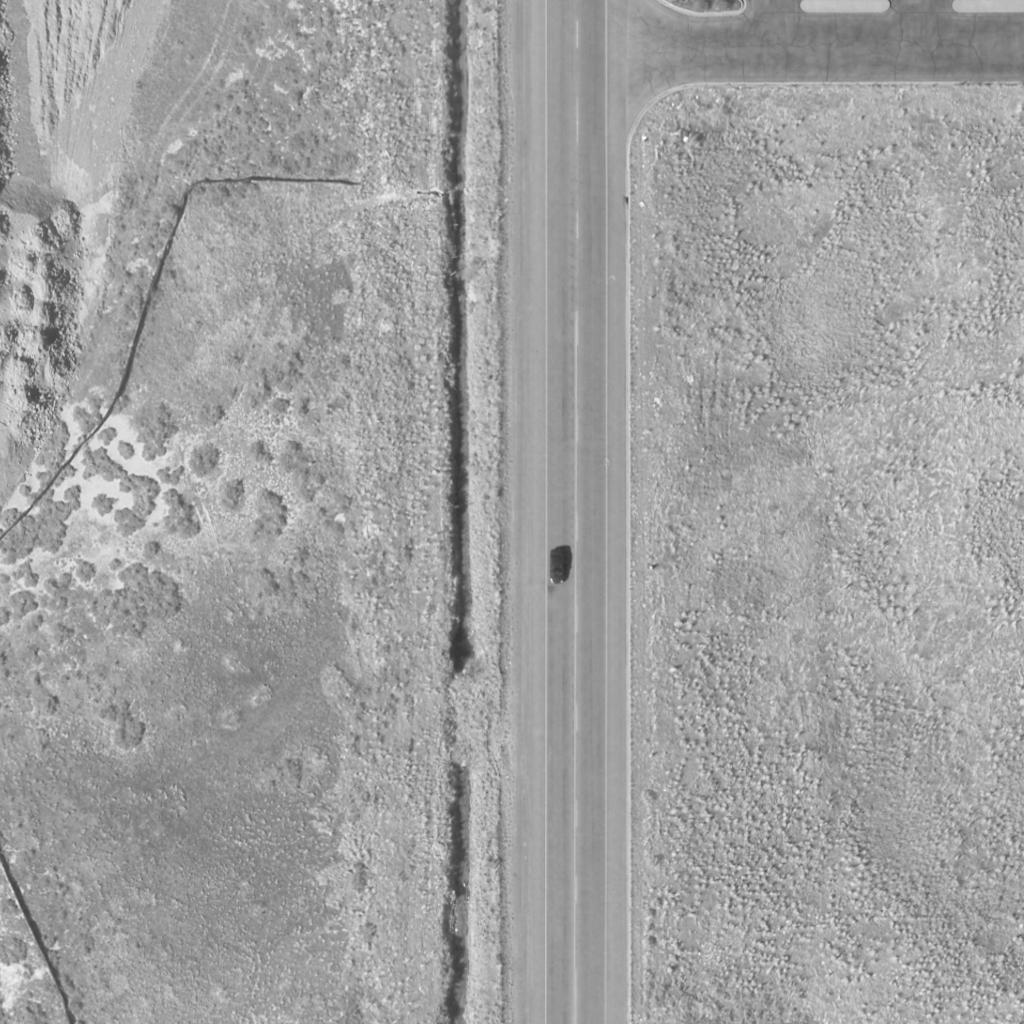vehicle: (548, 547, 568, 585)
